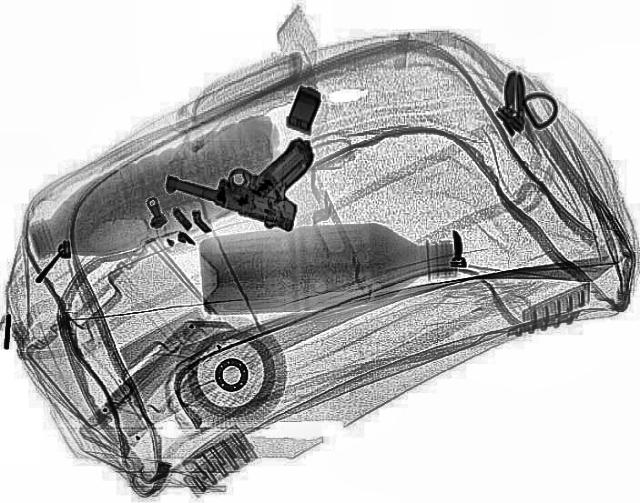Gun: (158, 108, 342, 234)
